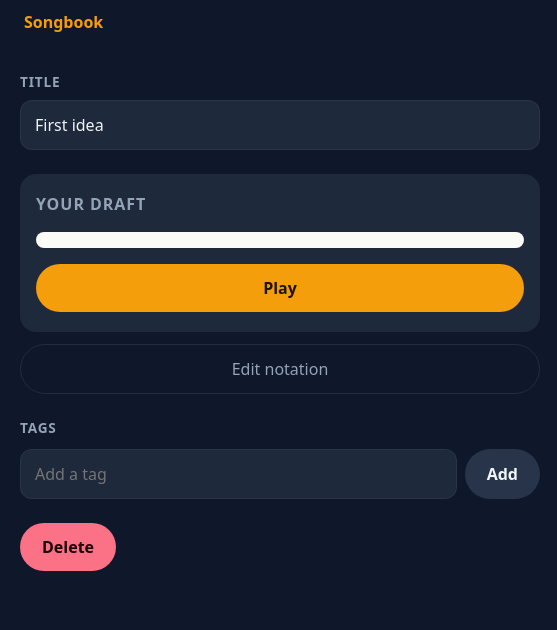
EntryDetailScreen › disables Add tag while the write is pending (AC2.1)
In the field labelled "Add a tag": (238,474) [20,449,457,499], type "jazz"
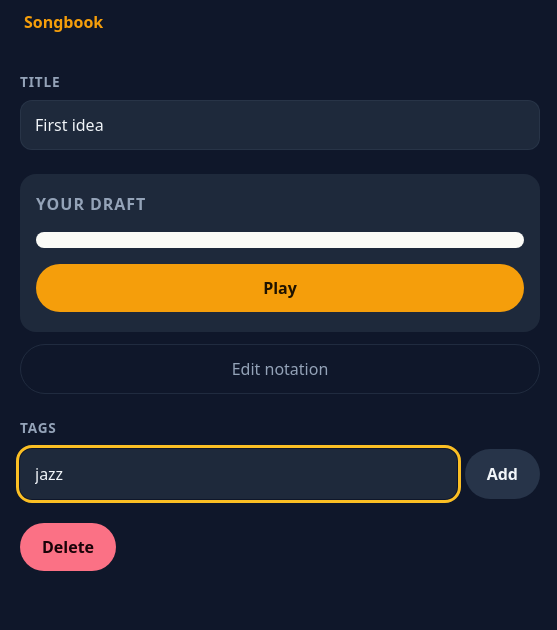
Click the button "Add": (502,474) [465,449,540,499]
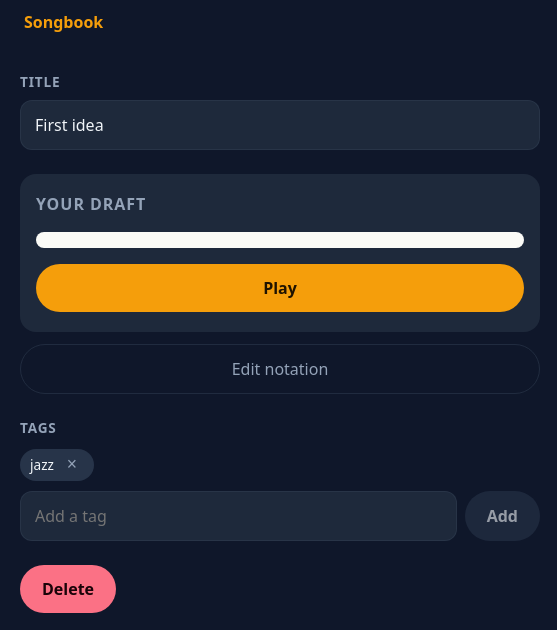
Expected: the button "Add" is disabled, [465,491,540,541]
